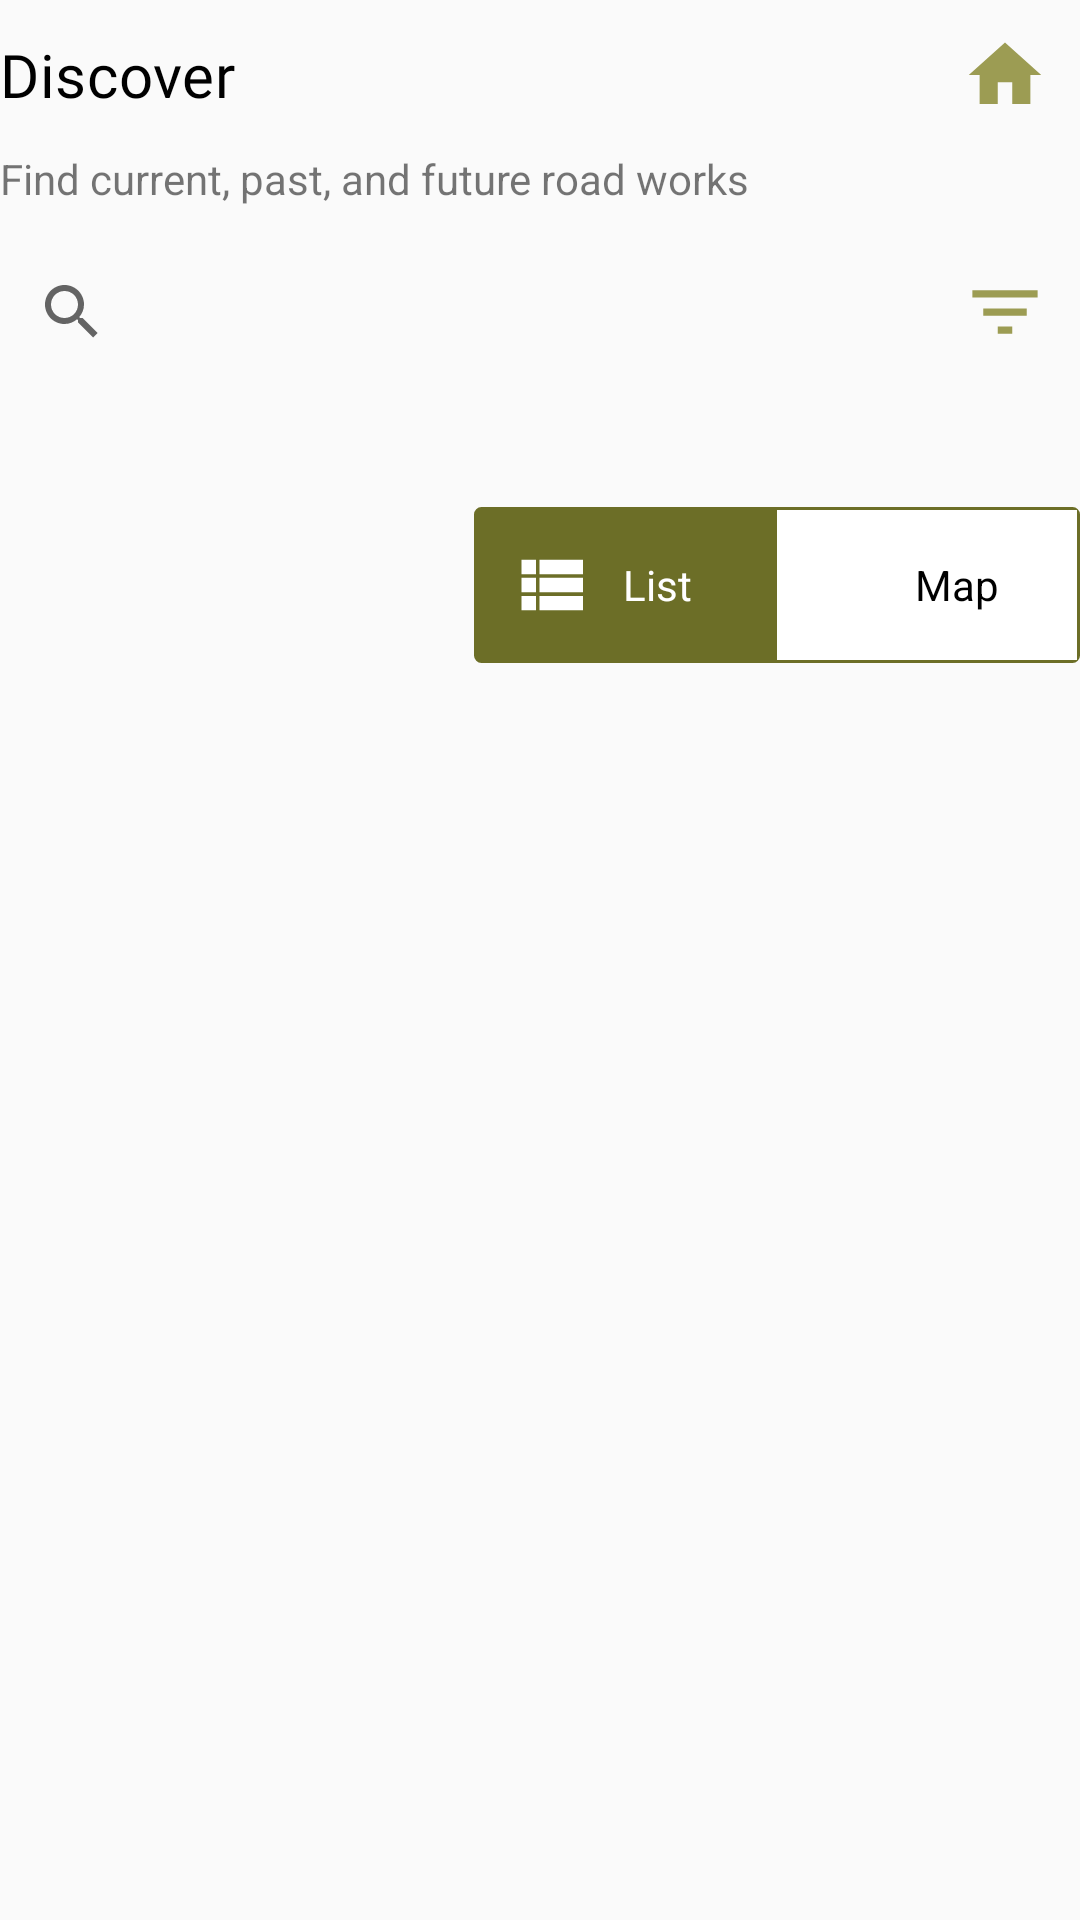

Icons on this 1080*1920 Android screen, each with the point to tap as (x=x, y=y):
filter: (x=1005, y=312)
home: (x=1005, y=73)
